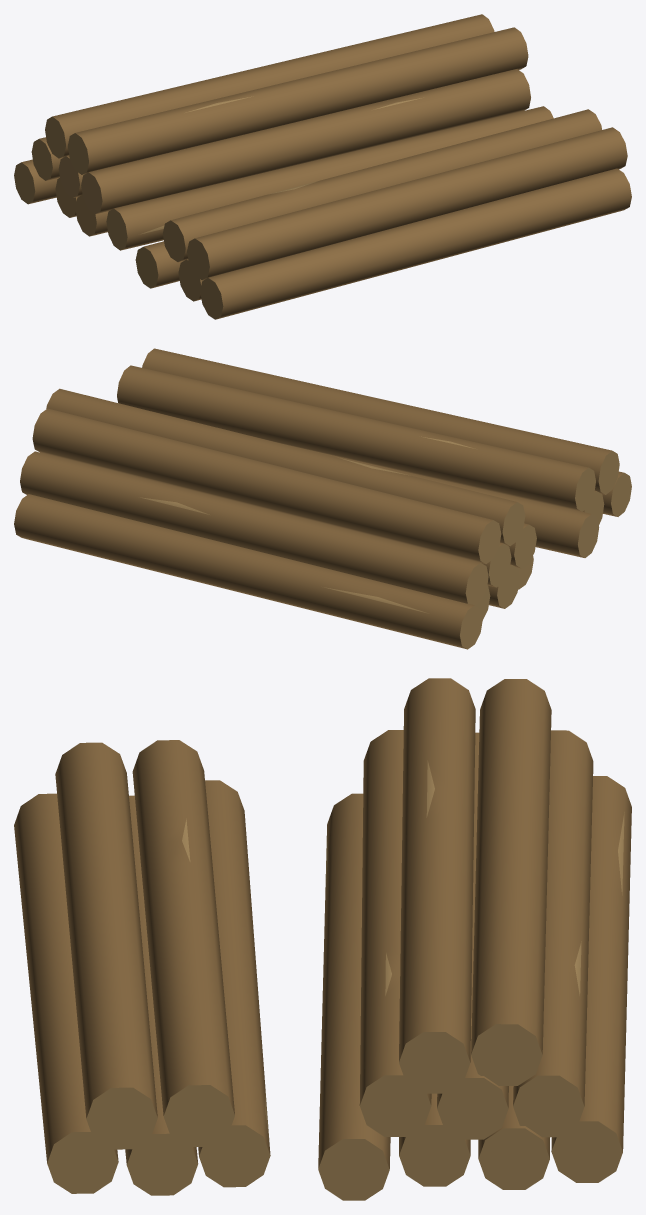
The model's file is Logs.glb.
3 views of the same model, one above another, from view 1: azimuth 30°, elevation 25°; view 2: azimuth 150°, elevation 25°; view 3: azimuth 270°, elevation 25° (orthographic). The views are drawn at different scales.
Parts seen in each view (by area): view 1: Logs; view 2: Logs; view 3: Logs.
Boxes of the visible parts, x1=… form: Logs: x1=14, y1=14, x2=631, y2=319; Logs: x1=14, y1=348, x2=631, y2=649; Logs: x1=14, y1=678, x2=631, y2=1200.
Size of the model in its own units: 1.16 by 0.2457 by 0.8352.
